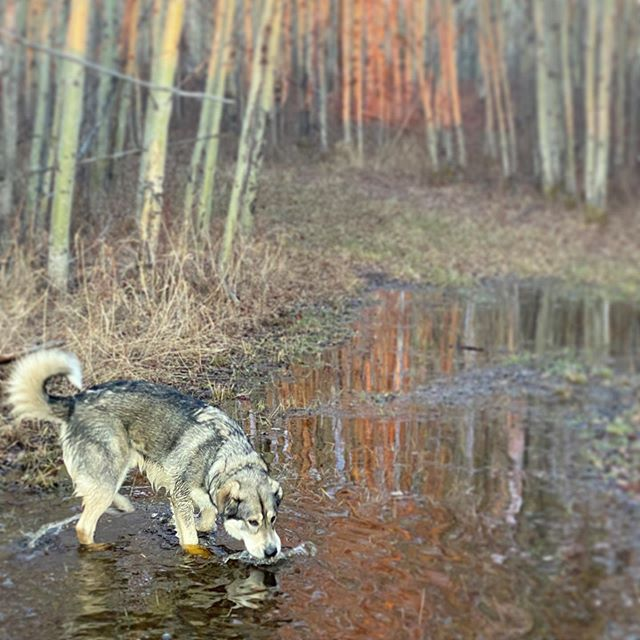animal: (42, 356, 301, 568)
vegetation: (1, 1, 596, 276)
